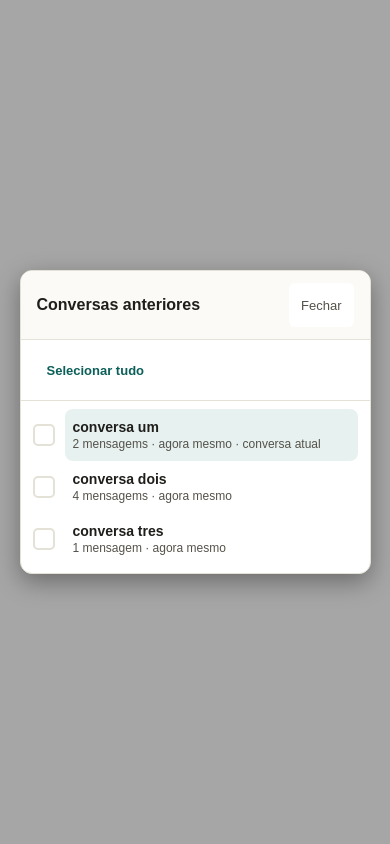
Test case: ConversationHistoryModal › seleção múltipla e exclusão em lote › botão excluir só aparece com pelo menos uma conversa marcada
Expected: the text "Excluir selecionadas" is not shown
Click the checkbox named "Selecionar conversa: conversa um, 2 mensagens, agora mesmo".
click(44, 435)  # box x1=32 y1=424 x2=54 y2=446
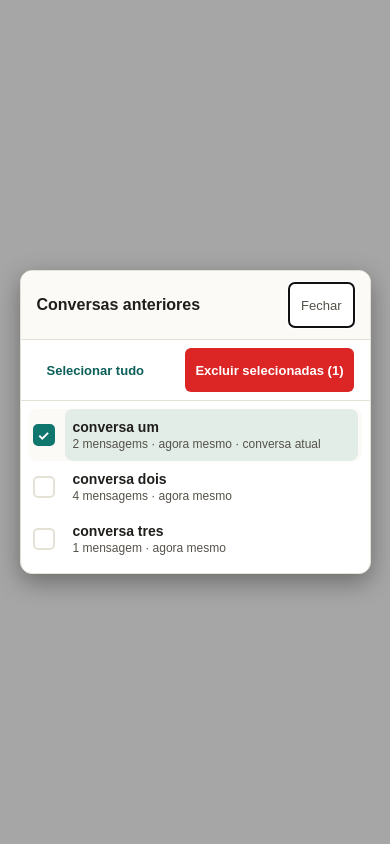
Expected: the text "Excluir selecionadas (1)" is shown, x1=195 y1=362 x2=344 y2=378
